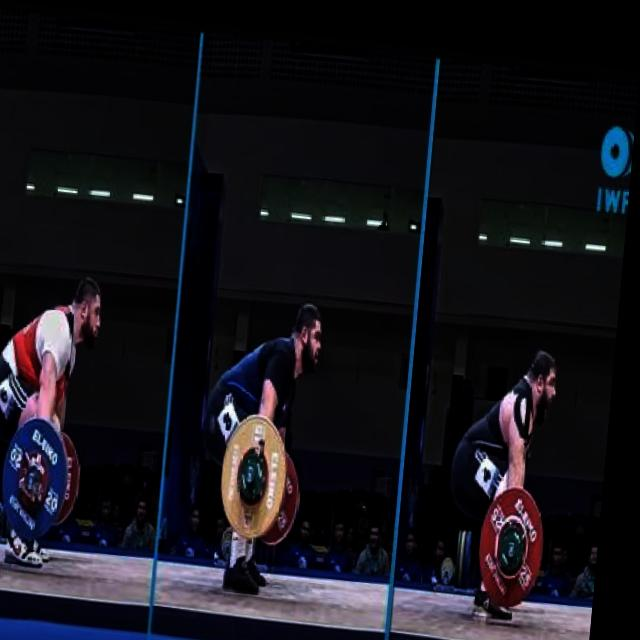barbell: (222, 404, 303, 539), (480, 468, 559, 603), (6, 411, 82, 542)
